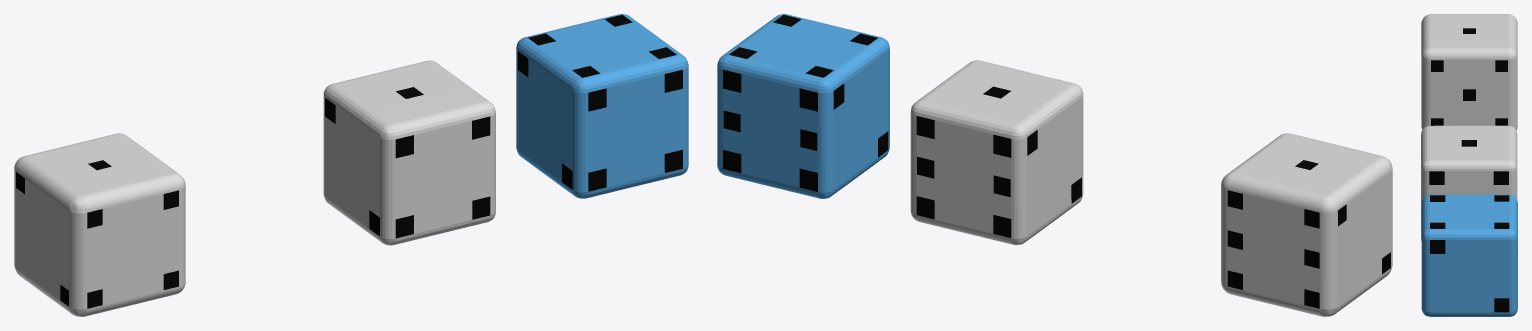
Rendered from Dice.fbx.
3 views of the same model, side by side, from view 1: azimuth 30°, elevation 25°; view 2: azimuth 150°, elevation 25°; view 3: azimuth 270°, elevation 25° (orthographic). The views are drawn at different scales.
Visible parts, largest first — view 1: normal, Cube.002, ProtoType; view 2: normal, Cube.002, ProtoType; view 3: Cube.002, ProtoType, normal.
Boxes of the visible parts, x1,y1,x2,y2 form: normal: (323, 60, 495, 245); Cube.002: (516, 14, 688, 198); ProtoType: (14, 133, 185, 316); normal: (910, 60, 1083, 245); Cube.002: (717, 14, 889, 198); ProtoType: (1221, 133, 1392, 316); Cube.002: (1421, 194, 1517, 316); ProtoType: (1421, 14, 1517, 130); normal: (1421, 125, 1517, 241).
Size of the model in its own units: 1075 by 206 by 201.
